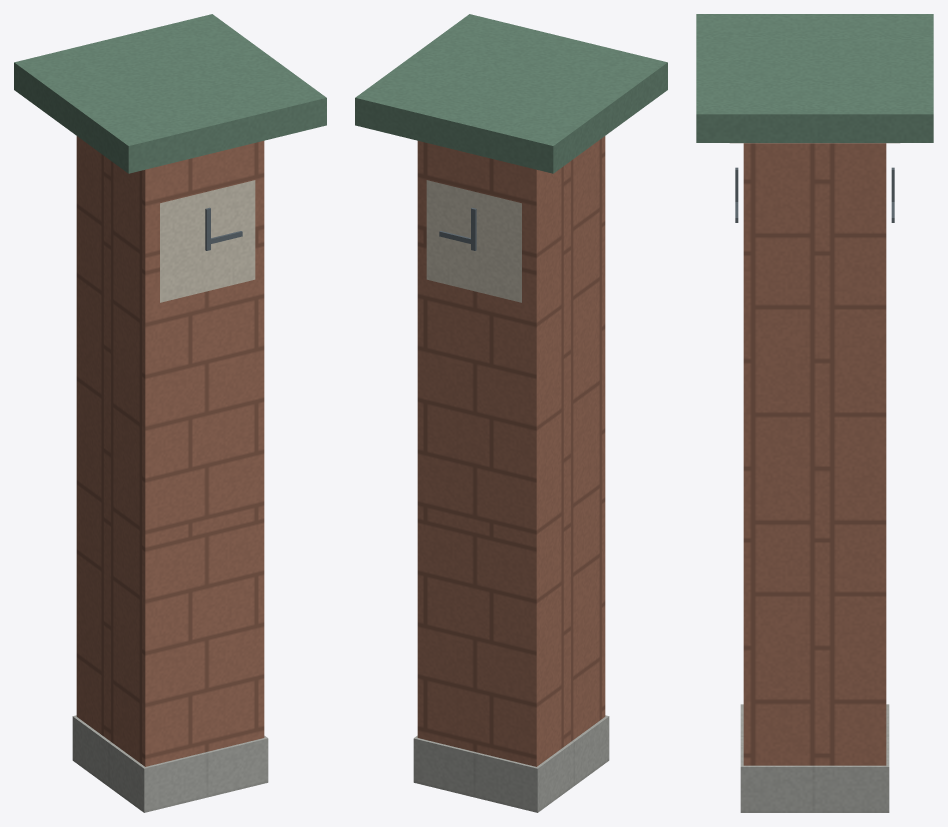
File: q03-clock.glb
The picture shows the model from 3 angles, left to right: view 1: azimuth 30°, elevation 25°; view 2: azimuth 150°, elevation 25°; view 3: azimuth 270°, elevation 25°; orthographic projection. The views are drawn at different scales.
Size of the model in its own units: 1.5 by 5 by 1.5.
5 materials, 5 textured.
